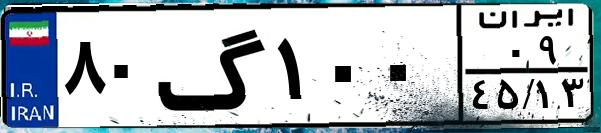0: (385, 28, 445, 110), (330, 28, 385, 110), (110, 28, 156, 98), (508, 27, 537, 80)
1: (270, 28, 330, 110), (535, 70, 560, 125)
3: (560, 70, 590, 125)
4: (470, 70, 495, 125)
5: (495, 70, 520, 125)
8: (57, 26, 110, 100)
9: (537, 27, 568, 80)
گ: (156, 12, 270, 120)
